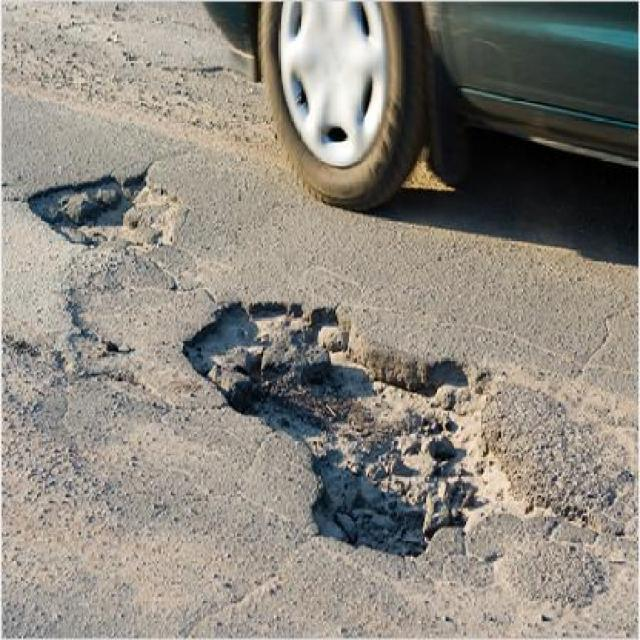Pothole: (179, 278, 507, 577), (23, 161, 189, 261)
